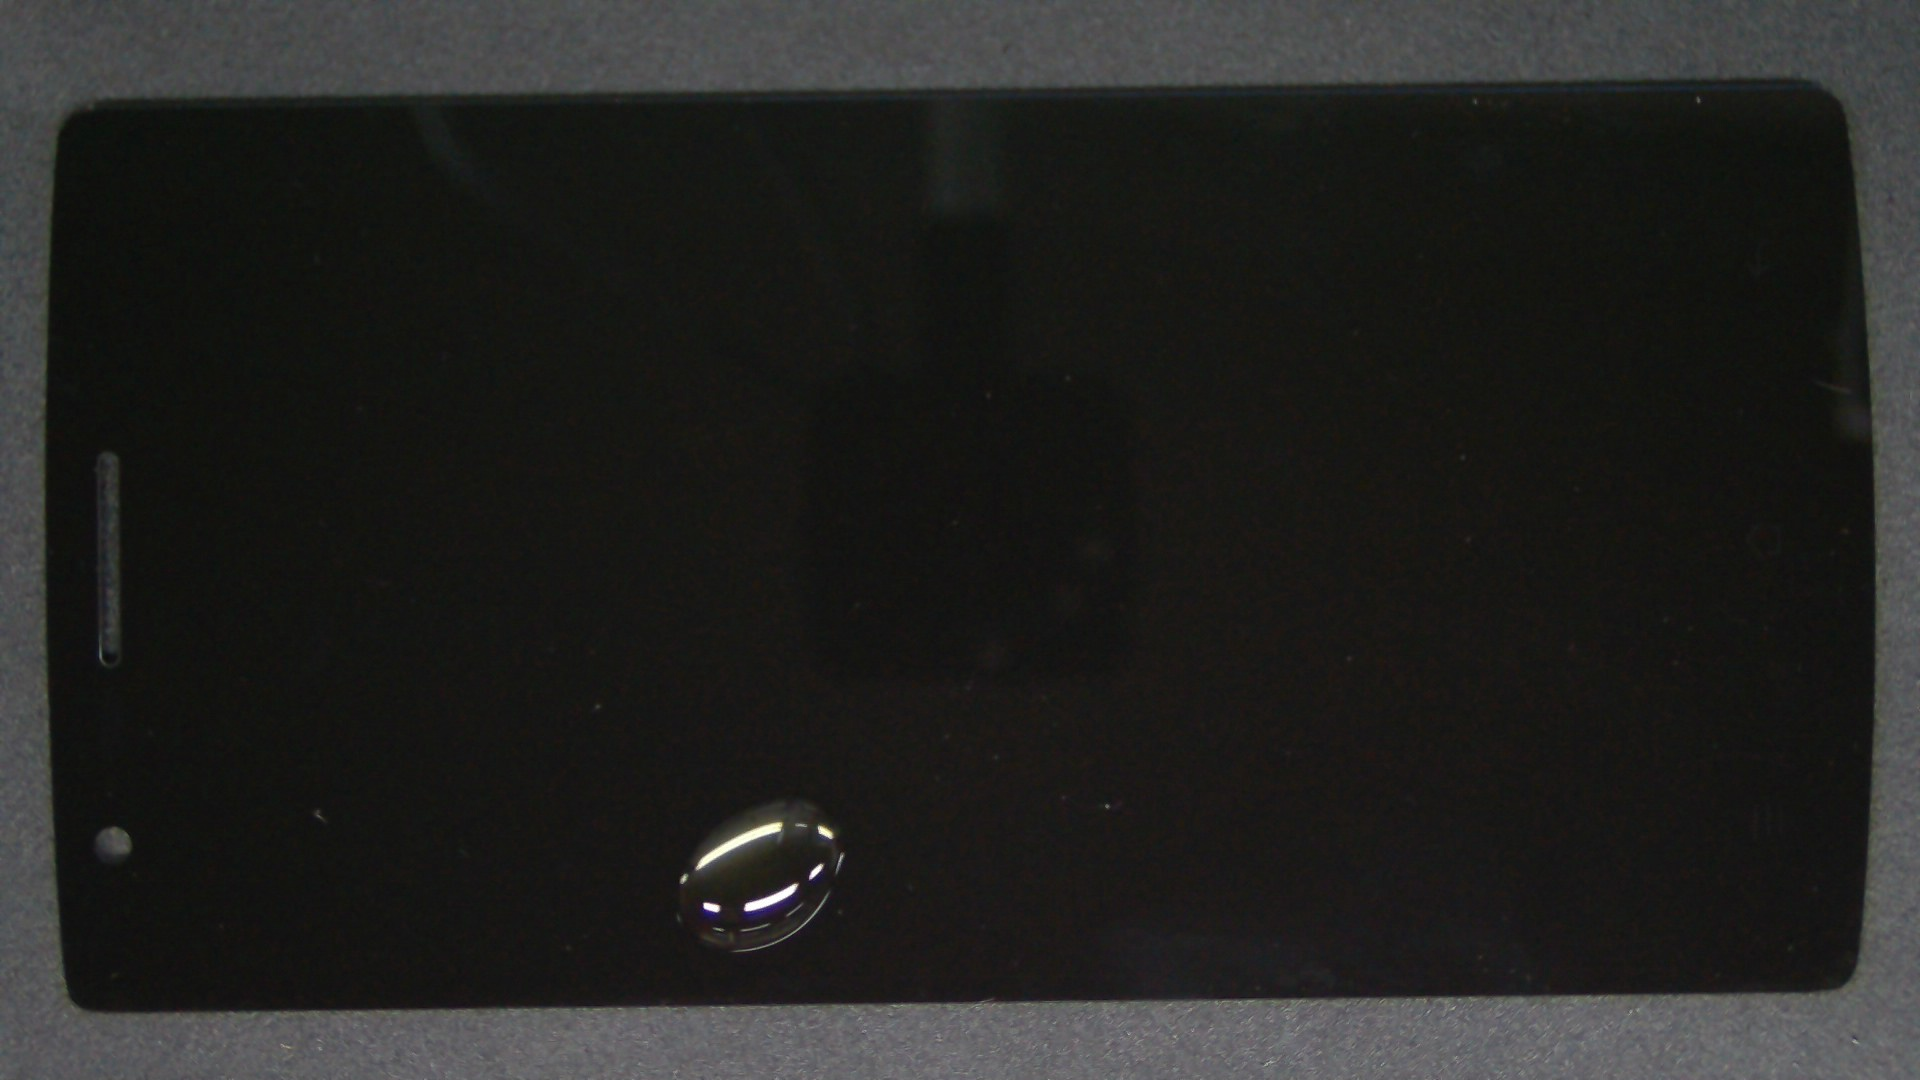oil: (397, 398, 1189, 1080)
